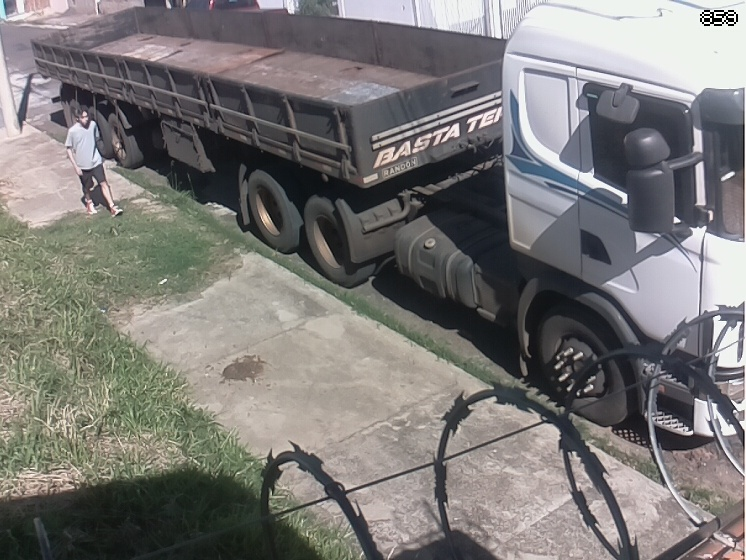person: (64, 108, 124, 219)
